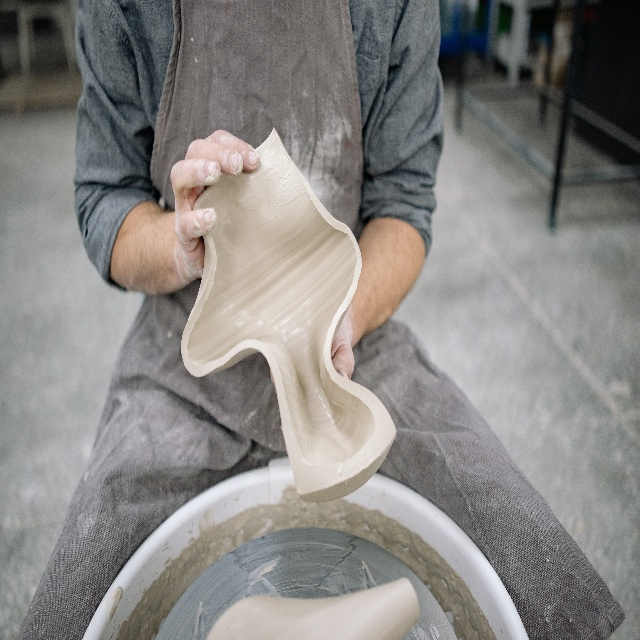Sin_guantes: (169, 128, 259, 281)
